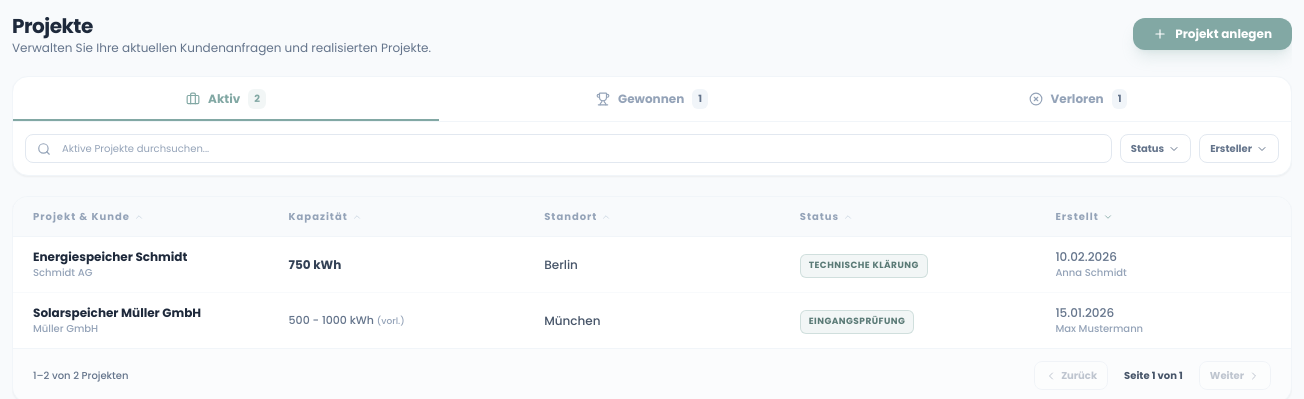
Scenario: ProjektUeberblick – Tabs › wechselt zu Verloren-Tab und zeigt verlorene Projekte
This screenshot has width=1304, height=399.
Click the text "Verloren": click(1077, 99) [1051,91,1104,107]
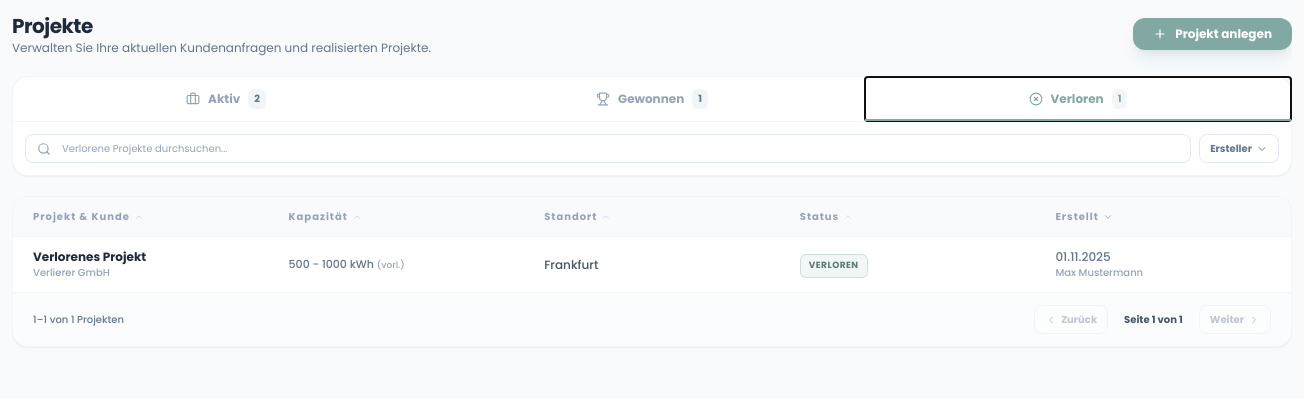
expect the text "Verlorenes Projekt" is shown: met, box [33,248,146,265]
